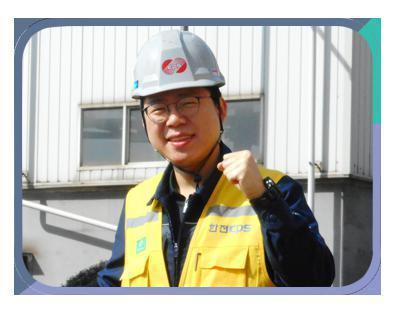helmet: (129, 29, 226, 100)
